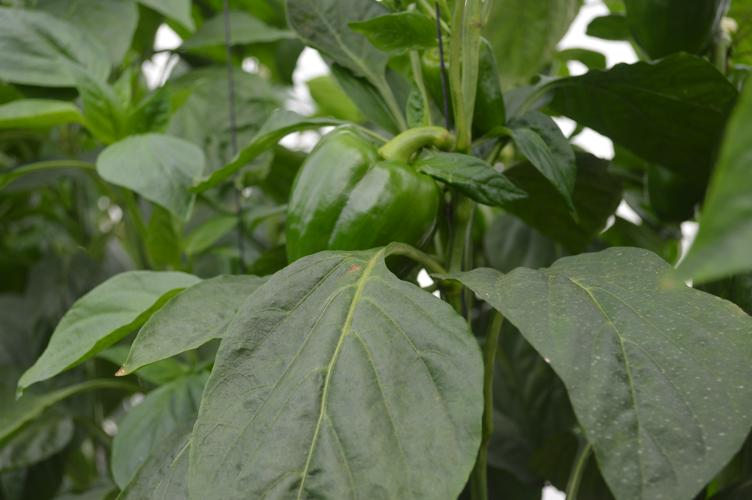BellPepper: (284, 128, 440, 270), (422, 39, 501, 129)
